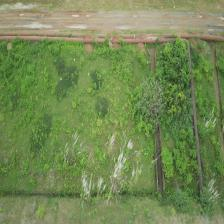slope_drain: (148, 46, 164, 197)
vegetation: (160, 83, 195, 185), (125, 78, 168, 137), (156, 39, 191, 90)
